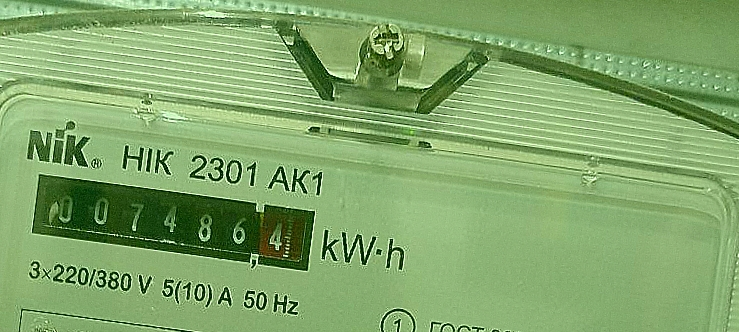0: (52, 189, 76, 226), (89, 192, 111, 227)
4: (157, 198, 180, 235), (264, 218, 285, 254)
6: (227, 213, 250, 247)
7: (120, 197, 147, 233)
8: (193, 209, 215, 246)
screen: (19, 161, 325, 283)
